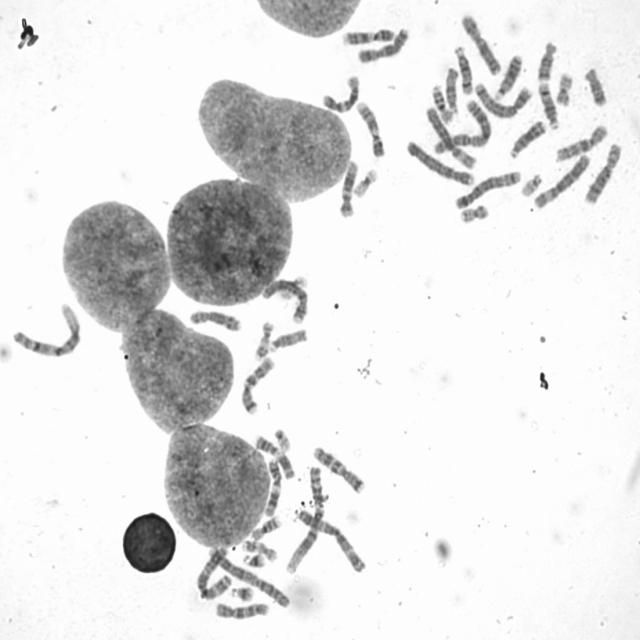A1: (282, 461, 327, 576), (8, 298, 84, 358)
A2: (204, 545, 292, 608), (429, 96, 495, 155)
A3: (293, 506, 367, 574), (192, 542, 235, 601)
B4: (404, 136, 476, 188), (260, 275, 310, 325)
B5: (452, 165, 524, 210), (471, 78, 533, 120)
C10: (552, 120, 610, 163), (212, 598, 272, 620)
C11: (252, 430, 297, 480), (260, 454, 284, 518)
C12: (319, 71, 362, 115), (336, 157, 359, 219)
C6: (530, 149, 592, 210), (423, 103, 478, 170)
C7: (310, 442, 367, 496), (238, 353, 276, 416)
C8: (582, 139, 624, 206), (186, 306, 244, 333)
C9: (353, 97, 386, 158), (339, 24, 397, 47)
D13: (506, 116, 548, 160), (491, 49, 524, 101)
D14: (535, 78, 561, 130), (450, 41, 474, 96)
D15: (265, 324, 309, 353), (442, 64, 460, 117)
E16: (428, 80, 454, 124), (248, 512, 282, 542)
E17: (239, 536, 279, 564), (251, 317, 275, 362)
E18: (581, 62, 610, 108), (534, 37, 560, 83)
F19: (351, 164, 380, 198), (278, 272, 310, 301)
F20: (552, 68, 575, 107), (458, 200, 490, 224)
G21: (228, 582, 256, 602), (240, 549, 268, 568)
G22: (518, 169, 544, 198), (271, 424, 293, 453)
X: (458, 9, 504, 76), (354, 23, 411, 65)
